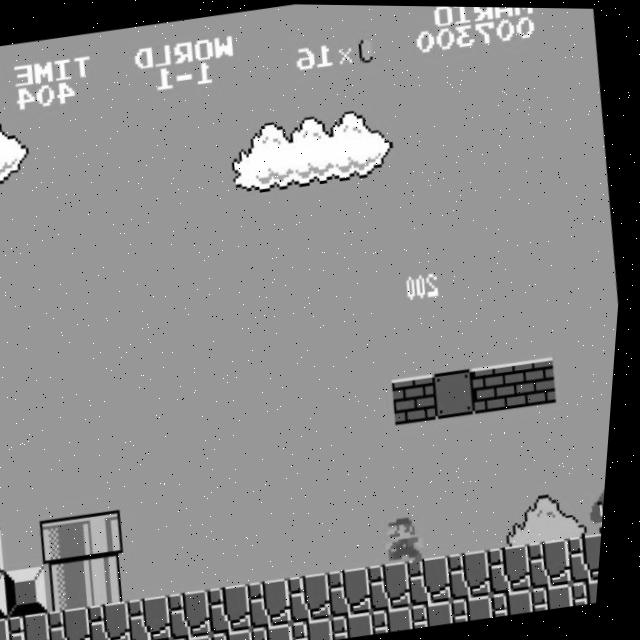1- brick_block: (474, 360, 525, 413), (514, 355, 565, 407), (395, 372, 446, 424)
11- little_mario: (386, 511, 439, 566)
14- pipe: (89, 554, 140, 607), (49, 560, 100, 613)
15- pipe_head: (84, 509, 135, 561), (45, 515, 96, 567)
17- undestructible_block: (452, 547, 503, 600), (413, 553, 464, 606), (293, 570, 344, 623), (253, 576, 304, 629), (532, 536, 583, 588), (492, 542, 543, 594), (373, 559, 424, 611), (333, 565, 384, 617), (213, 582, 264, 634), (173, 588, 224, 640), (134, 593, 185, 640), (94, 600, 144, 640), (572, 530, 610, 582), (55, 605, 105, 640), (15, 611, 64, 640), (379, 604, 425, 634), (459, 592, 504, 622), (419, 598, 464, 628), (538, 581, 584, 610), (339, 610, 385, 639), (499, 587, 544, 616), (299, 616, 344, 640), (260, 621, 305, 640), (578, 575, 607, 604), (220, 627, 265, 640), (6, 617, 25, 640), (181, 633, 225, 640)
3- empty_block: (434, 366, 485, 419)
8- goomba: (593, 480, 612, 535)
9- hard_block: (10, 566, 61, 618), (0, 571, 21, 619), (0, 527, 16, 573)
